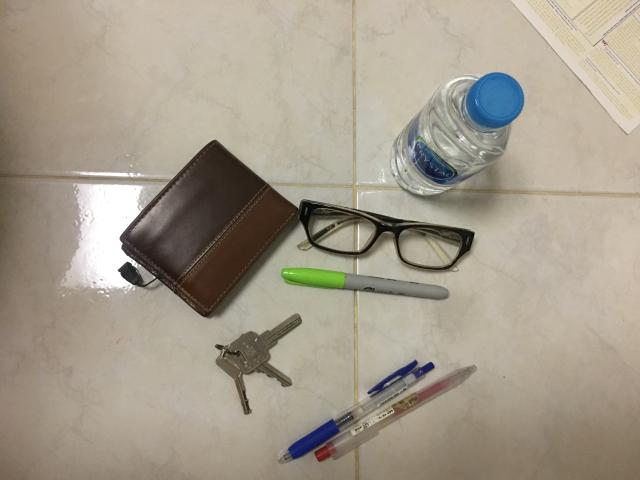Glasses: (299, 200, 474, 270)
Keys: (215, 314, 301, 415)
Pen: (279, 360, 434, 462), (315, 365, 476, 461), (281, 268, 449, 299)
Wallet: (120, 140, 298, 316)
bottle: (390, 72, 524, 195)
paper: (512, 0, 640, 134)
